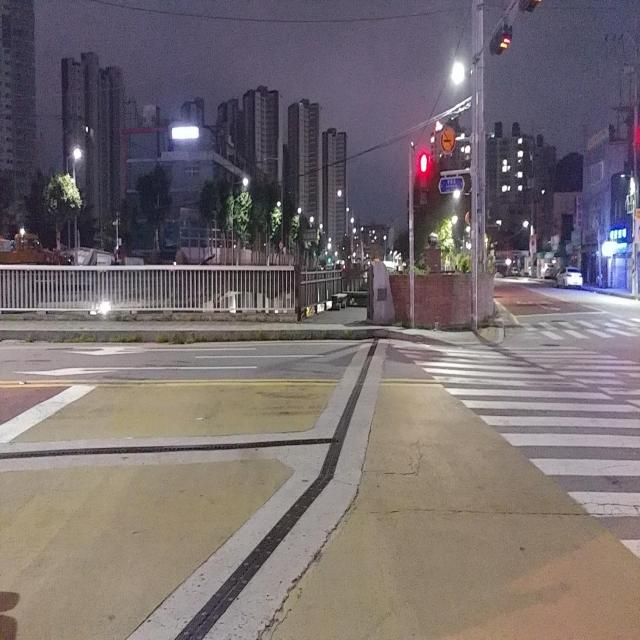빨간불: (418, 154, 432, 204)
횡단보도: (382, 336, 640, 563)
